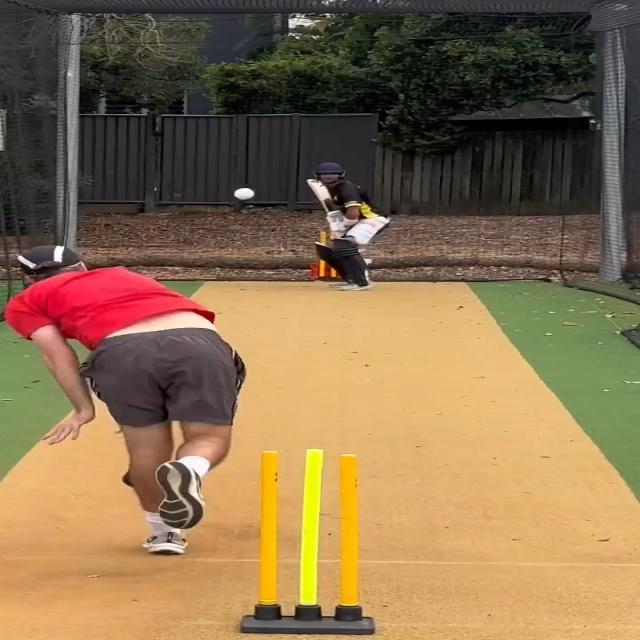ball: (232, 184, 258, 202)
stump: (238, 449, 382, 636)
